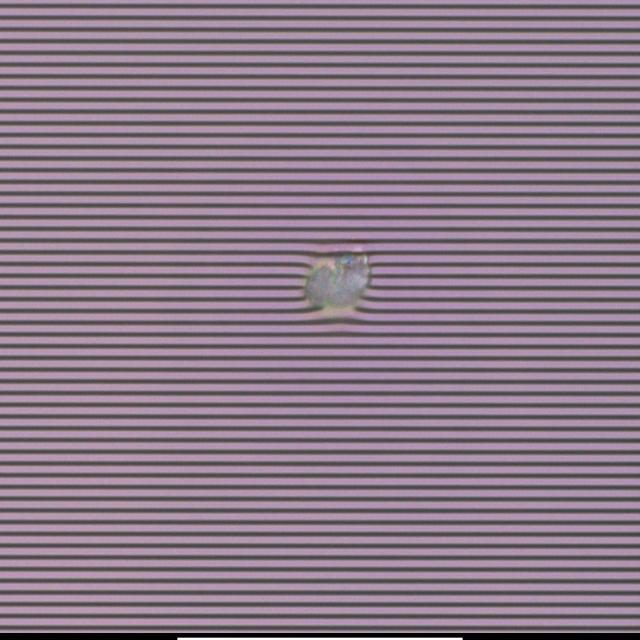03_intrusion: (303, 249, 377, 321)
